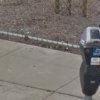Motorcycle: (74, 19, 100, 100)
